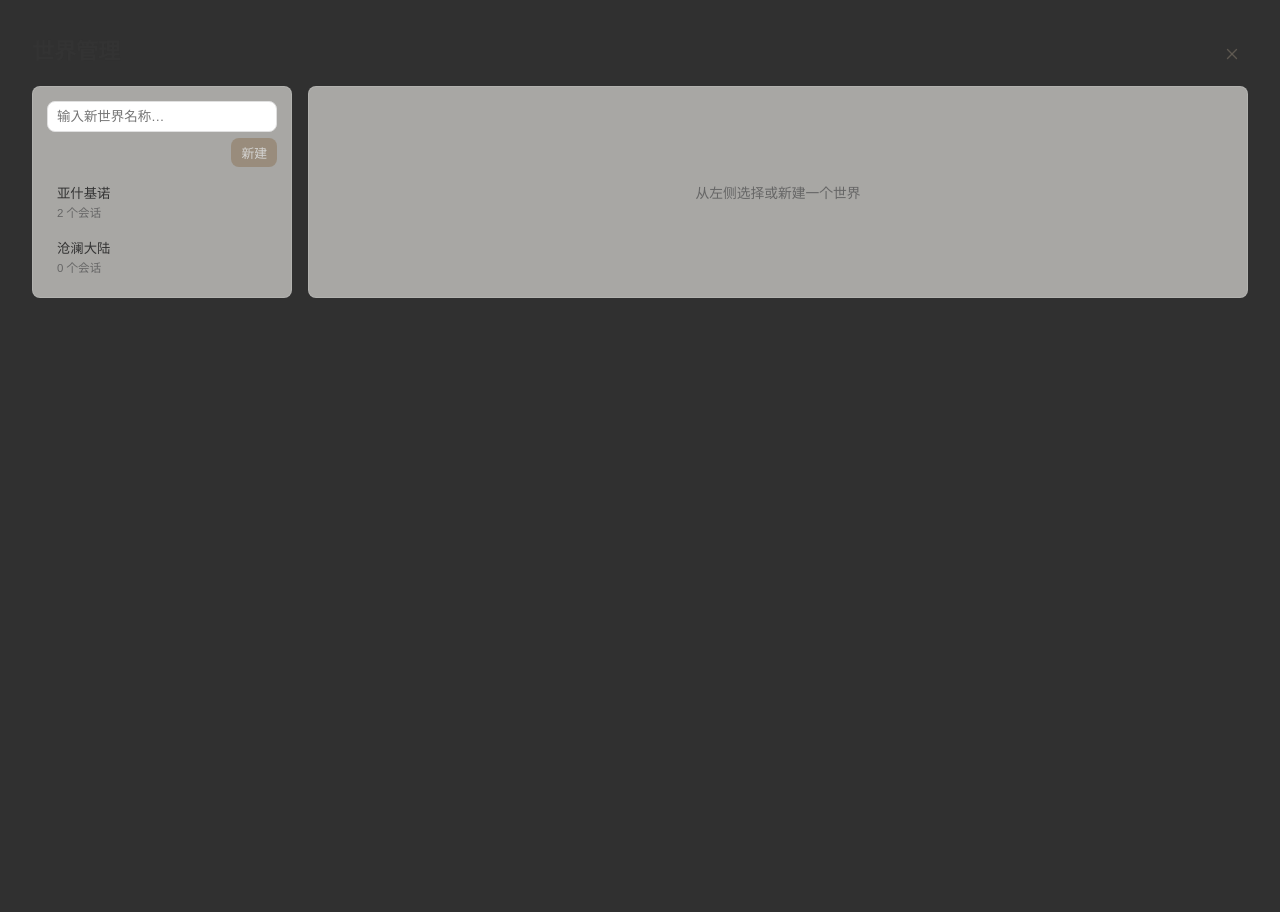
Test case: WorldManagerSection › 删除成功后从列表移除并清空详情
Click the button with class "wm-list-item" showing "亚什基诺 2 个会话" at (162, 202), box [47,175,277,228]
(page scrolled)
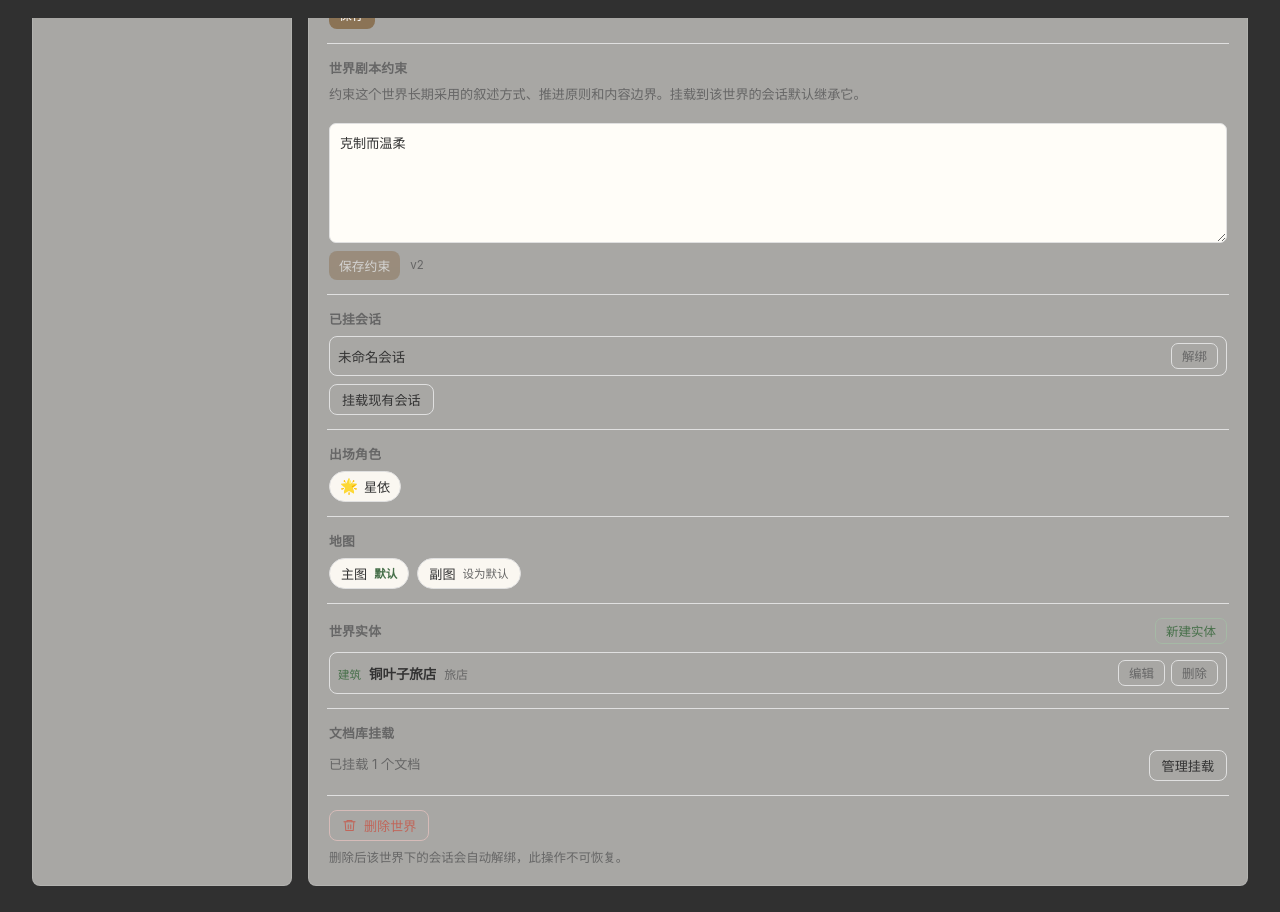
Click the button with class "wm-delete-btn" at (379, 825), box [329,810,430,841]
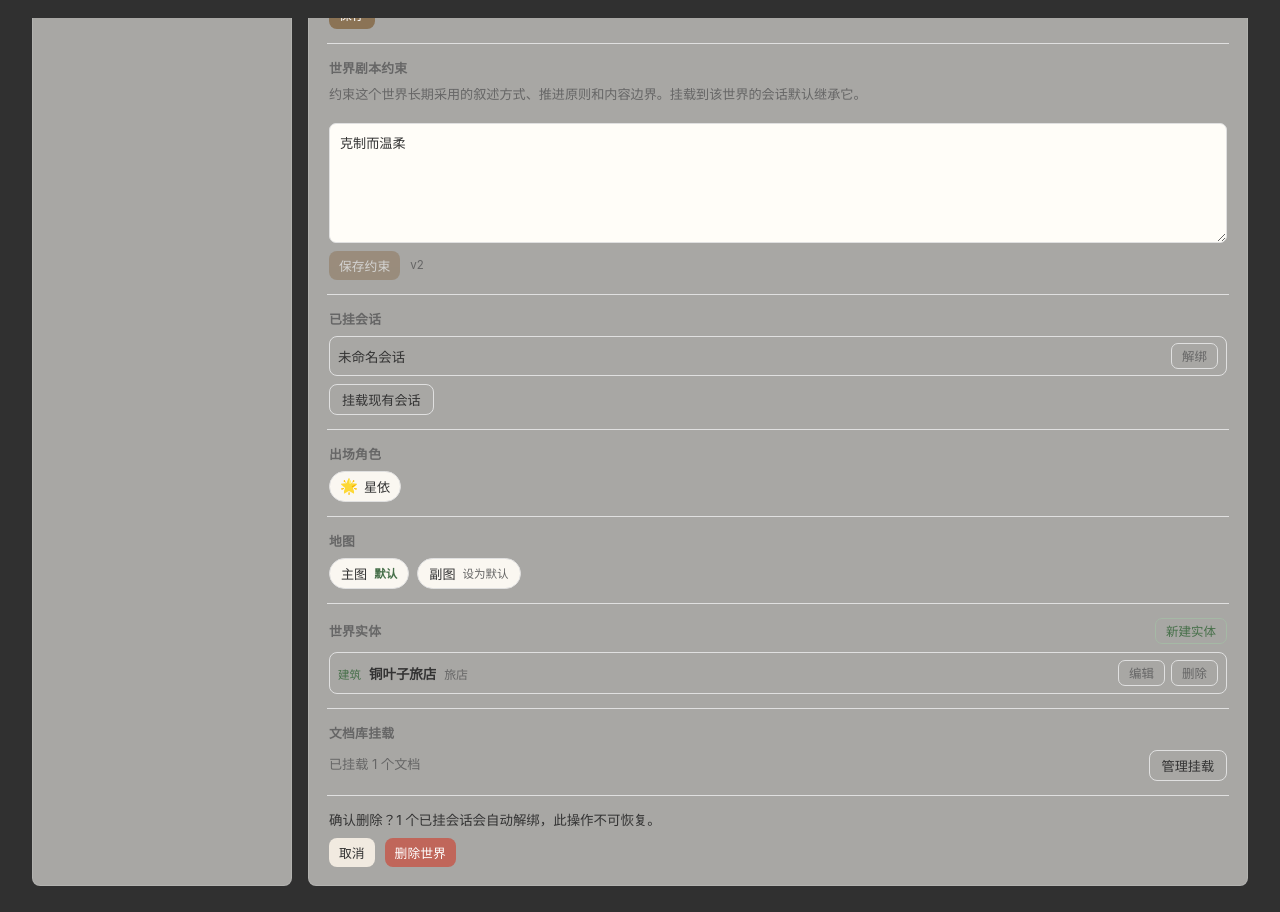
Click the button with class "wm-delete-confirm-btn" at (420, 852), box [385,838,456,867]
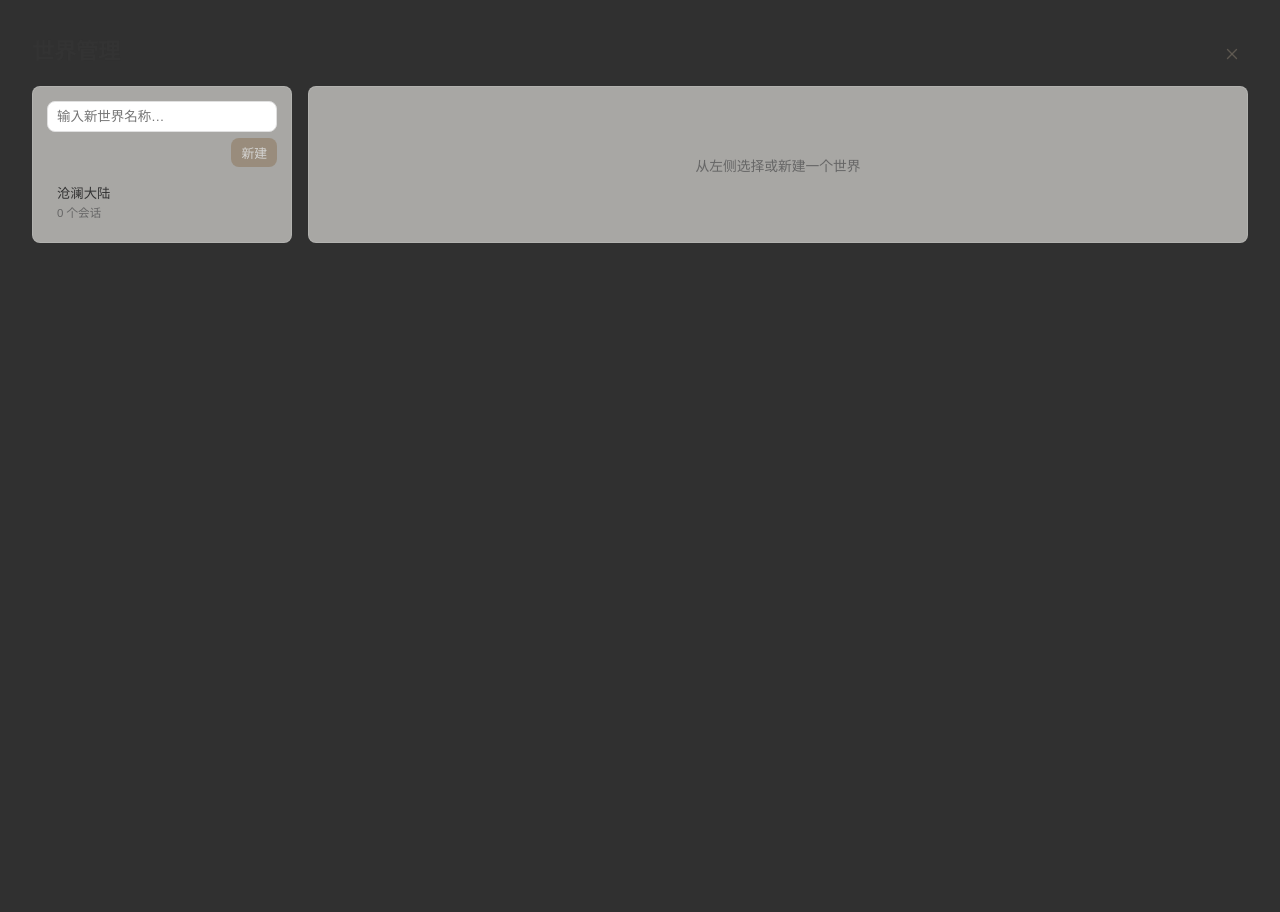
Expected: the number of buttons with class "wm-list-item" is 1, [47,175,277,228]
Expected: the text "从左侧选择或新建一个世界" is shown, [696,158,860,174]
